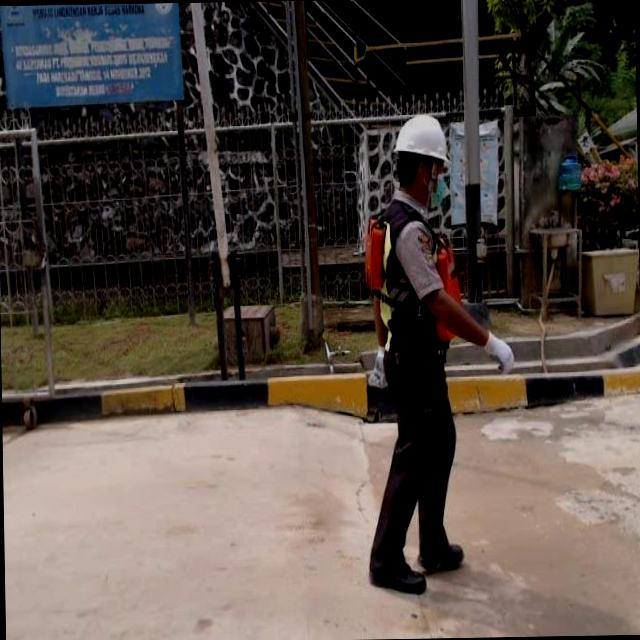boots: (365, 556, 427, 605), (416, 540, 466, 576)
gloves: (460, 302, 542, 391), (354, 322, 404, 405)
helmet: (394, 109, 454, 170)
vest: (364, 202, 466, 348)
